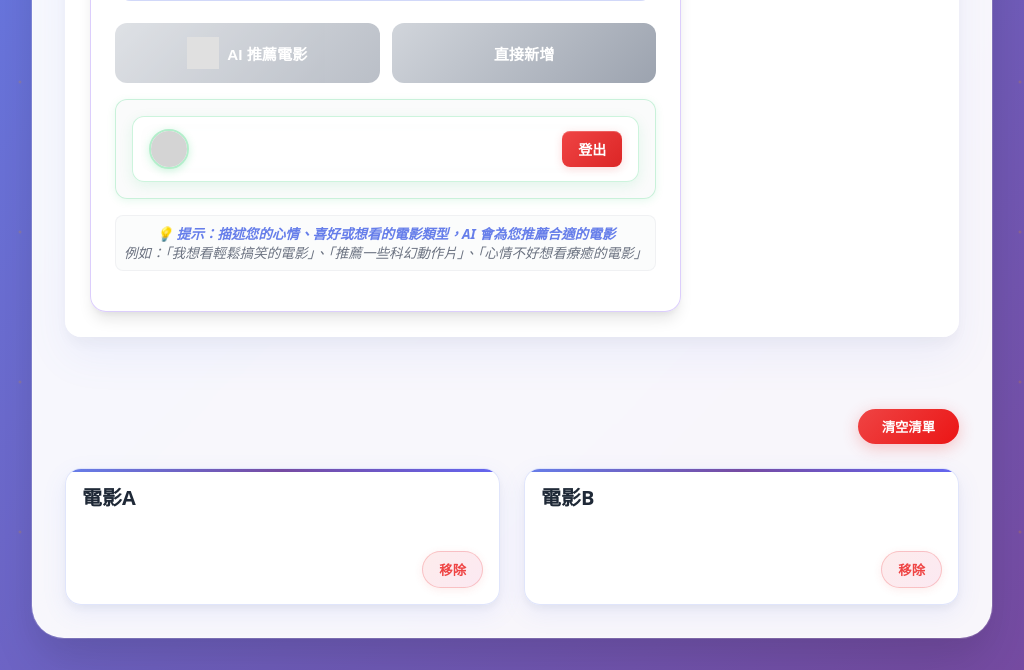
Watchlist Component › removes a movie successfully
(page scrolled)
What coordinates should you click on to do the following:
click the 1st button "移除"
I would click on:
 (453, 569)
Its box is [422, 551, 483, 588].
(page scrolled)
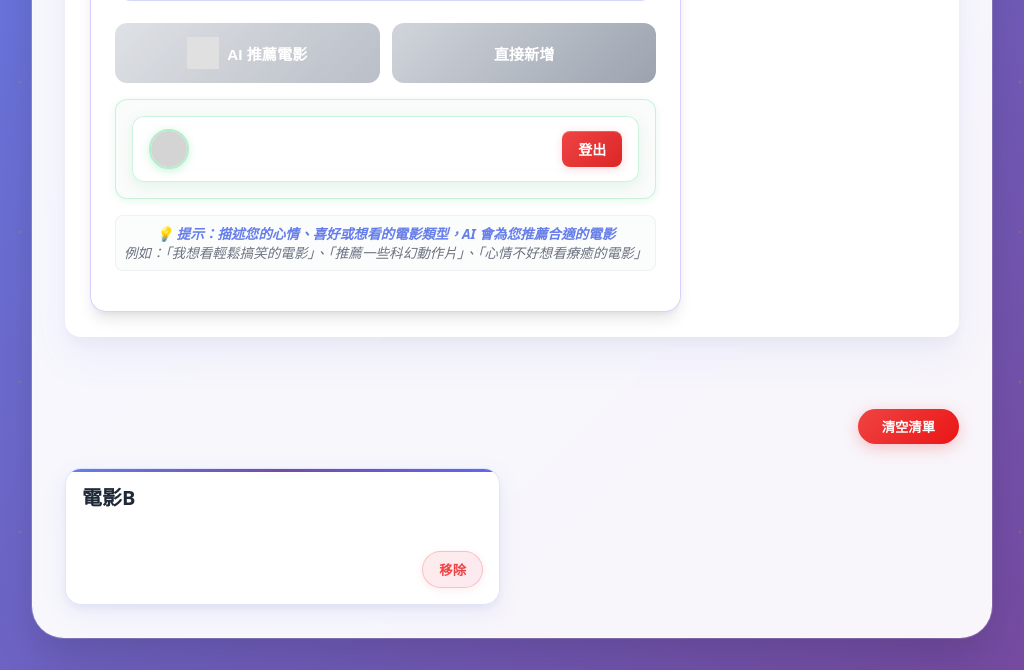
Result: the heading "電影A" is gone
Result: the heading "電影B" is shown at [82, 484, 136, 511]
